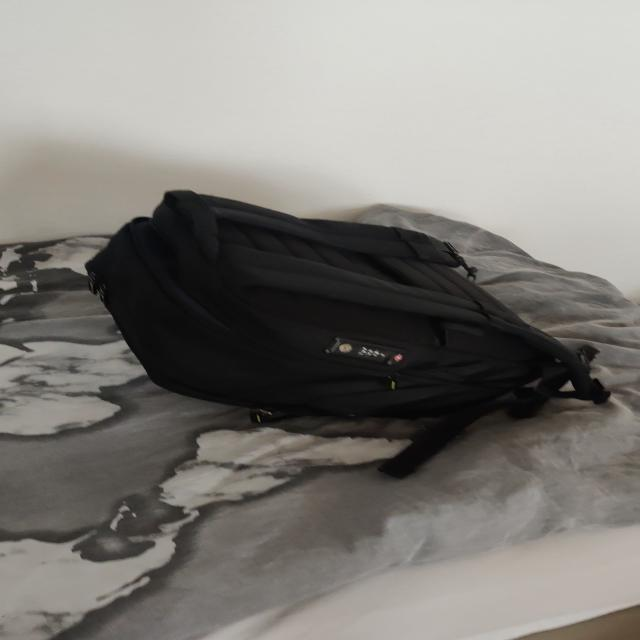backpack: (74, 180, 598, 443)
